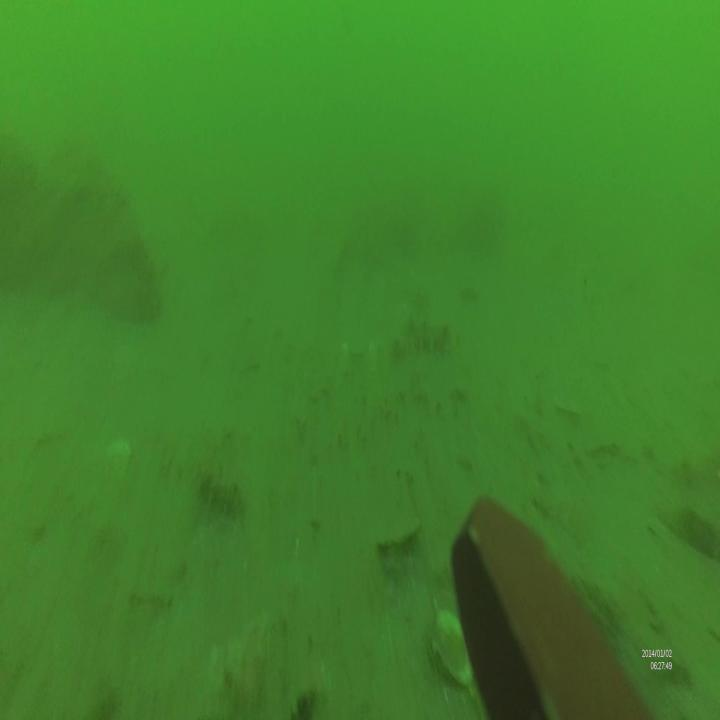holothurian: (195, 466, 248, 530), (394, 320, 455, 357)
scallop: (377, 516, 420, 557)
